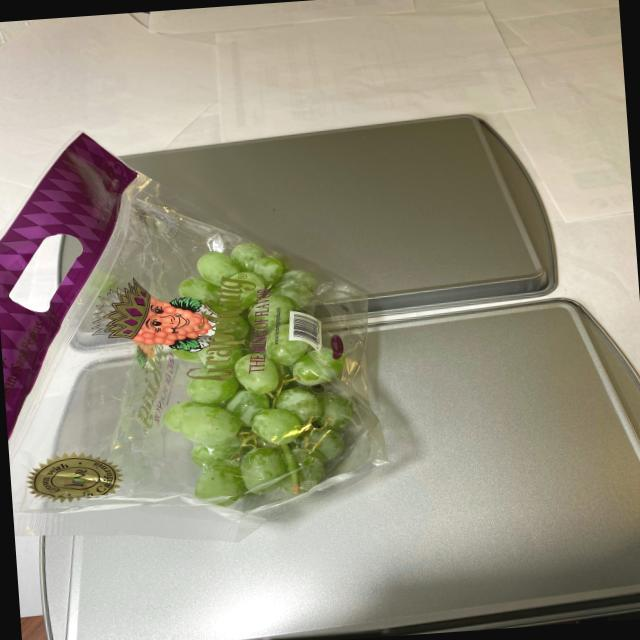grapes: (172, 227, 352, 515)
